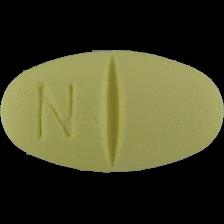0615-8044: (0, 0, 224, 224)
